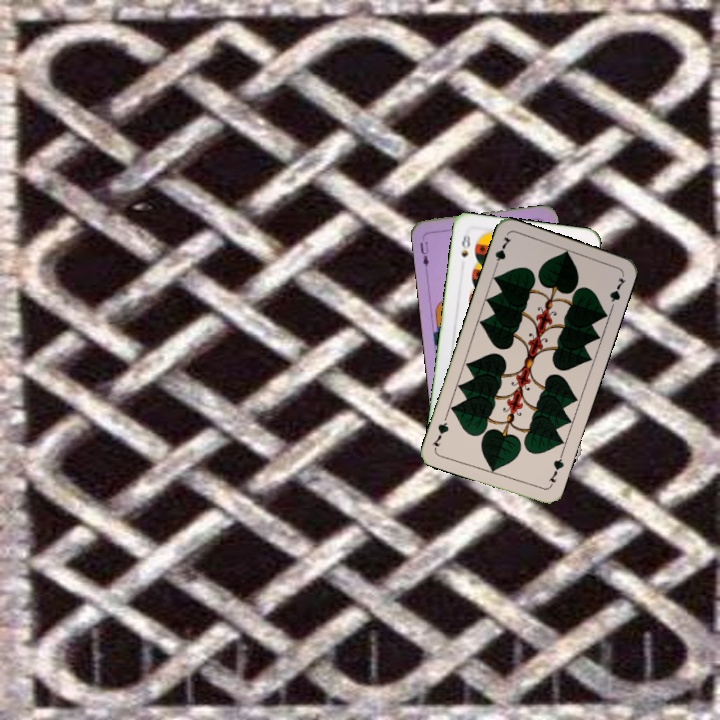EU: (416, 238, 432, 269)
G7: (490, 233, 513, 272), (544, 450, 566, 489)
S8: (457, 231, 473, 260)
